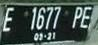clone-license-plate: (0, 3, 91, 41)
